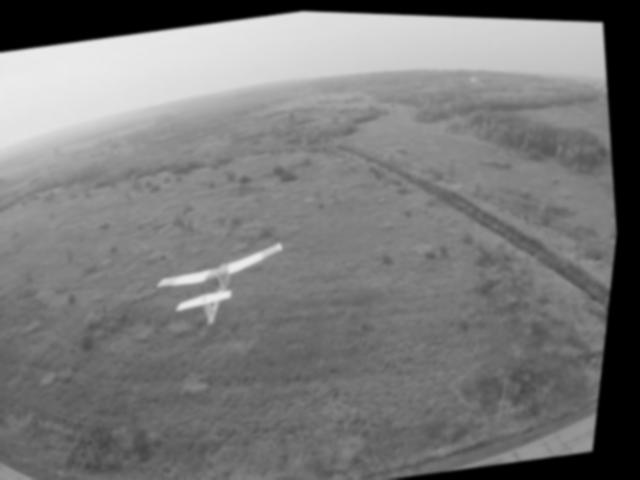hedef: (150, 228, 303, 337)
